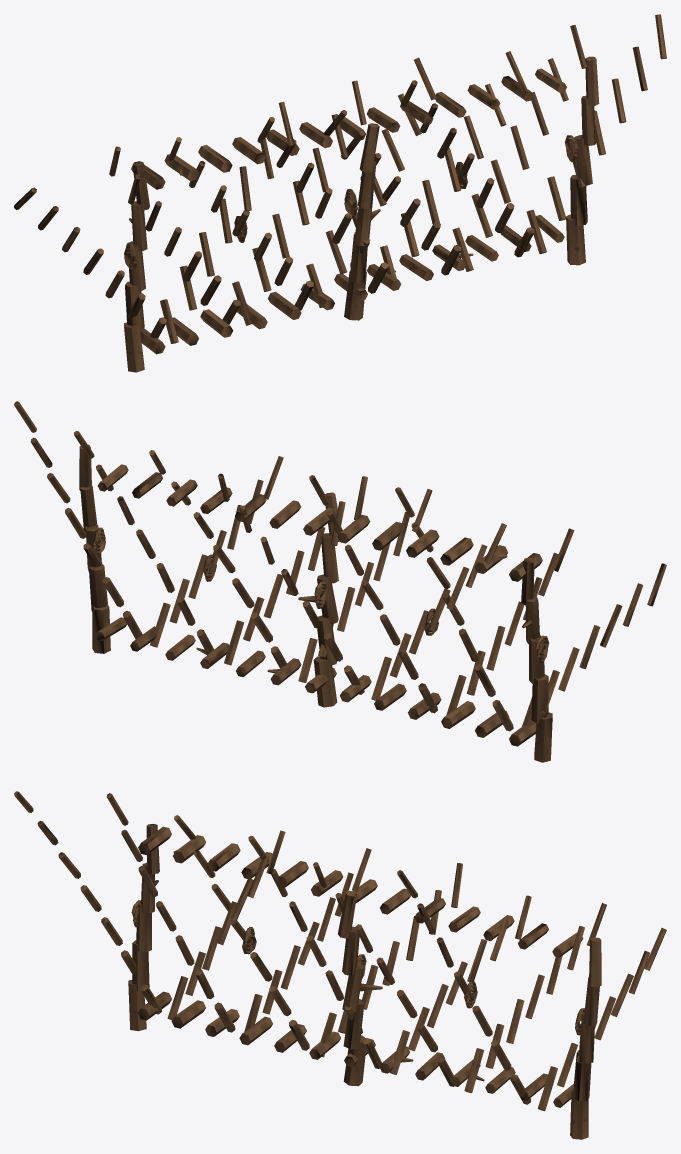
Rendered from lattice.glb.
The picture shows the model from 3 angles, top to bottom: view 1: azimuth 30°, elevation 25°; view 2: azimuth 150°, elevation 25°; view 3: azimuth 330°, elevation 25°; orthographic projection.
Parts seen in each view (by area): view 1: lattice; view 2: lattice; view 3: lattice.
Boxes of the visible parts, box(x1,y1,x2,y2) form: lattice: box(14, 14, 666, 372); lattice: box(14, 401, 666, 762); lattice: box(14, 791, 666, 1139).
Bounding box in the file's own units: 5.82 × 2.03 × 0.6037.
1 material, 1 textured.
